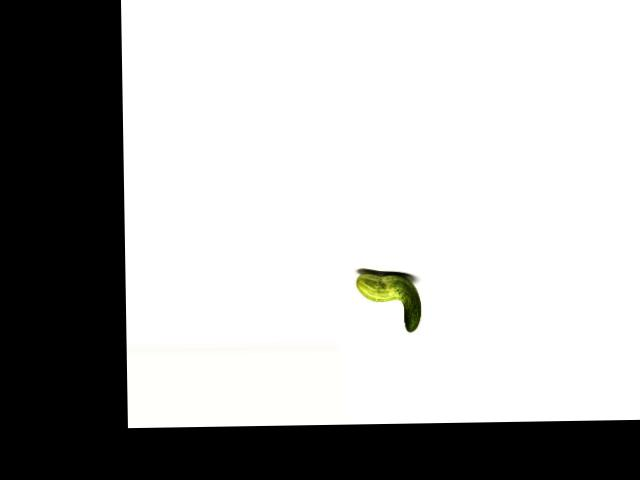cucumber: (356, 271, 422, 332)
